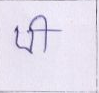i_matra: (34, 15, 54, 52)
